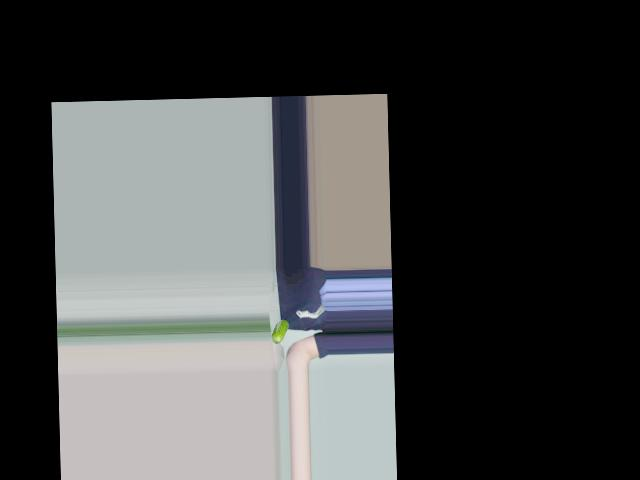cucumber: (270, 319, 288, 344)
